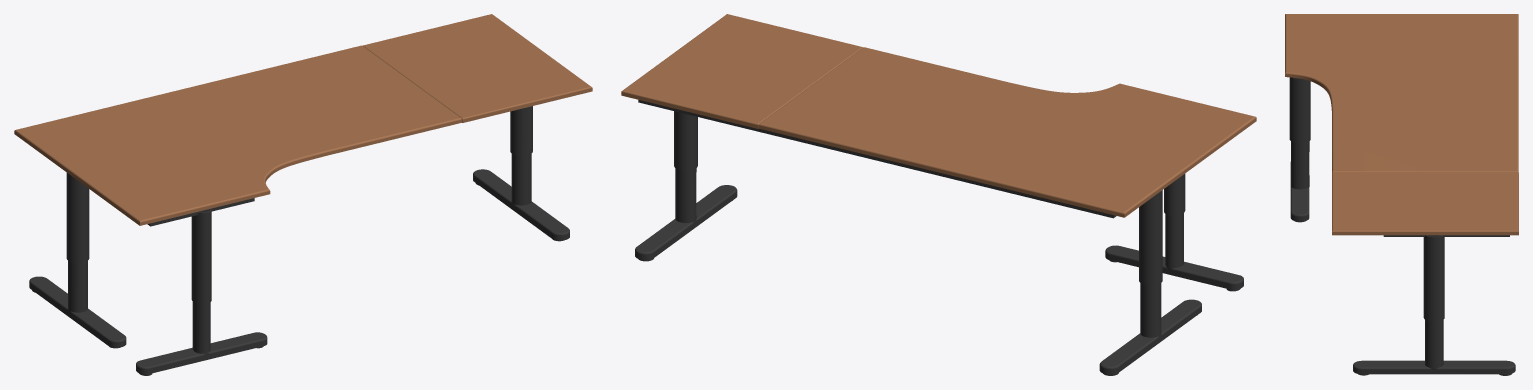
File: Desk.fbx
The picture shows the model from 3 angles, left to right: view 1: azimuth 30°, elevation 25°; view 2: azimuth 150°, elevation 25°; view 3: azimuth 270°, elevation 25°; orthographic projection. The views are drawn at different scales.
Parts seen in each view (by area): view 1: Desk; view 2: Desk; view 3: Desk.
Boxes of the visible parts, <box> form: Desk: <box>14,14,592,375</box>; Desk: <box>621,14,1256,375</box>; Desk: <box>1285,14,1518,375</box>.
Bounding box in the file's own units: 220 × 70.6 × 100.
